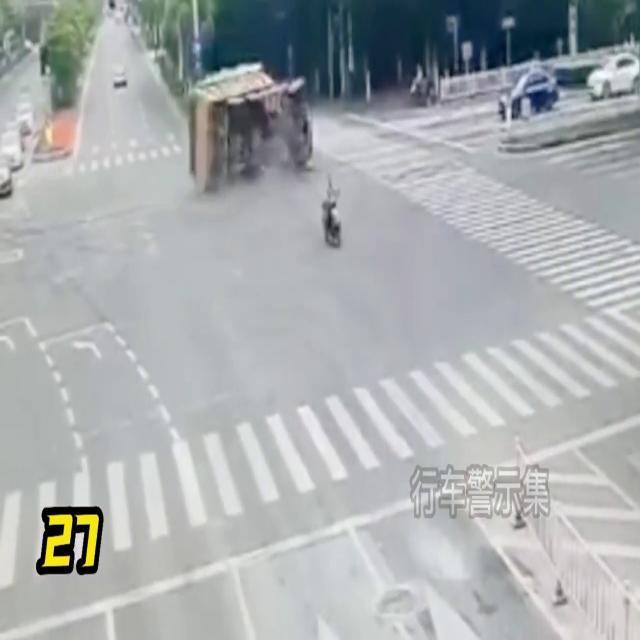accident: (185, 58, 319, 198), (2, 104, 34, 176)
